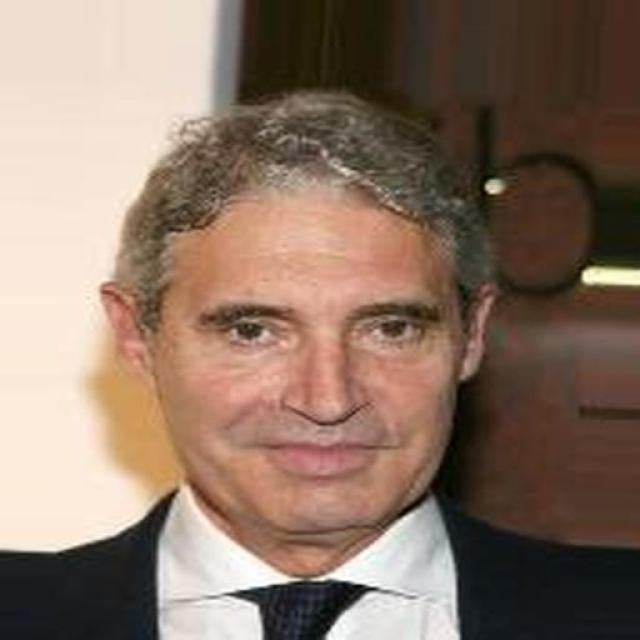bareface: (138, 103, 464, 514)
